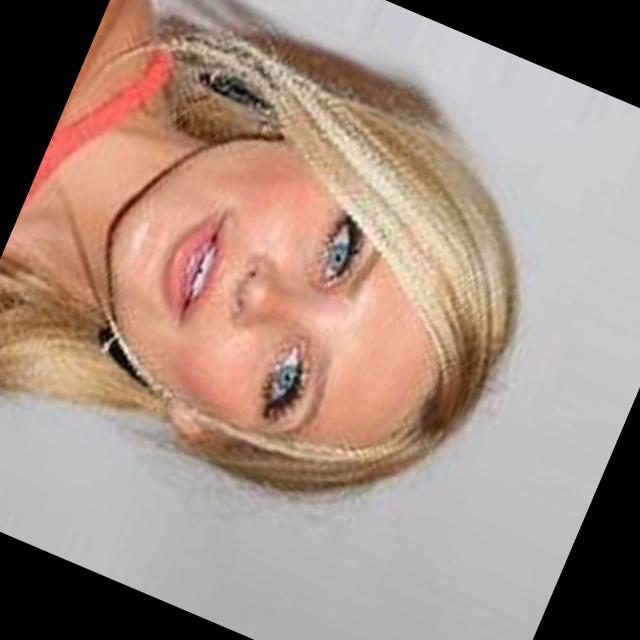bareface: (93, 78, 560, 518)
